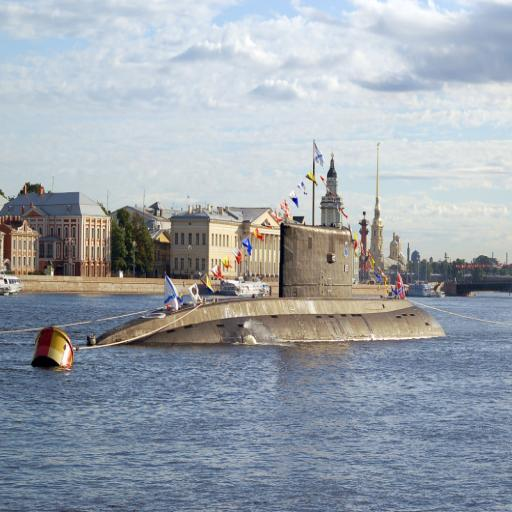submarine: (93, 133, 459, 351)
